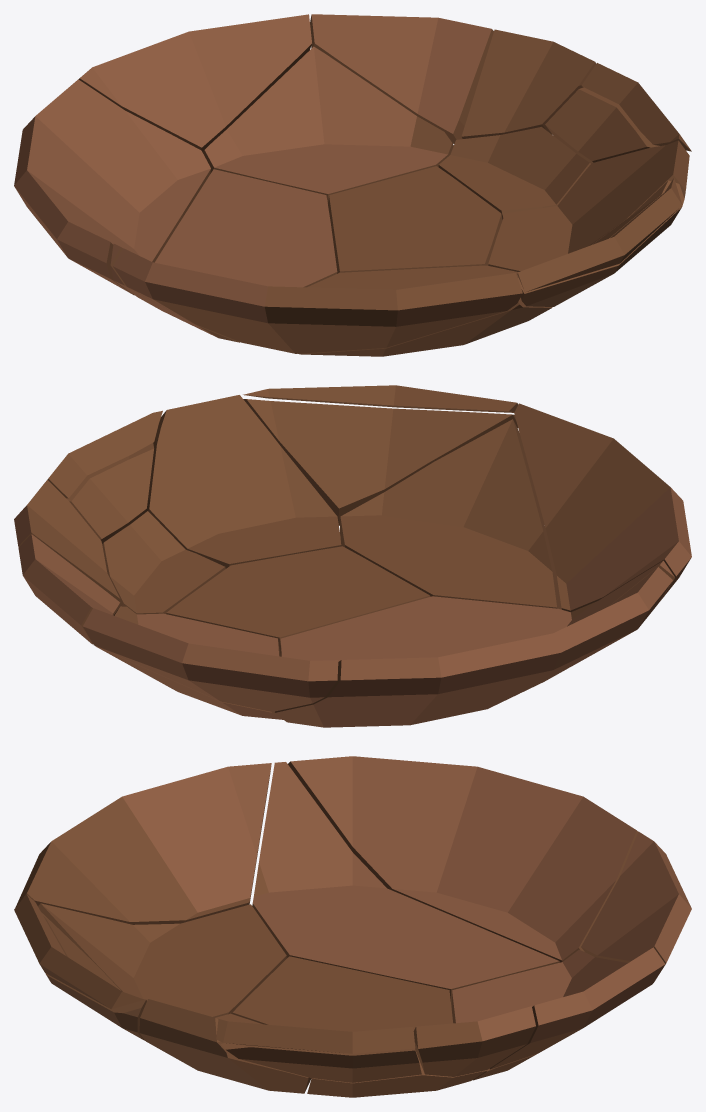
Rendered from fractured_plate.glb.
3 renders of one model, top to bottom at view 1: azimuth 30°, elevation 25°; view 2: azimuth 150°, elevation 25°; view 3: azimuth 270°, elevation 25°, orthographic.
Visible parts, largest first — view 1: Plate_cell; view 2: Plate_cell; view 3: Plate_cell.
Part boxes in pixels (bbox=[...]): Plate_cell: bbox=[14, 14, 691, 356]; Plate_cell: bbox=[14, 385, 691, 727]; Plate_cell: bbox=[14, 756, 691, 1097].
Size of the model in its own units: 0.2497 by 0.0452 by 0.25.
